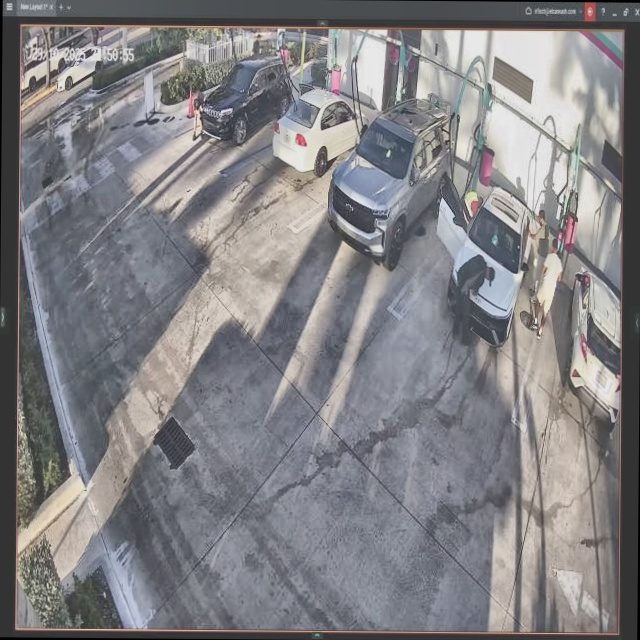Car: (330, 99, 456, 264), (441, 176, 532, 347), (275, 89, 368, 176), (201, 57, 291, 146)
